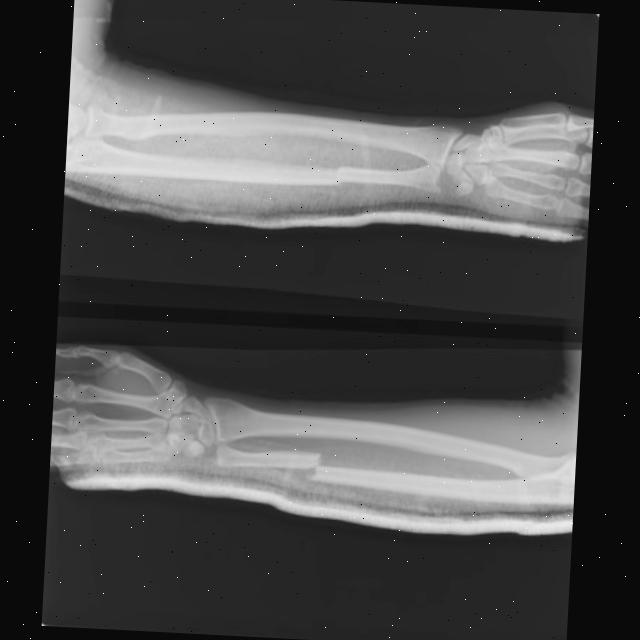fractured: (302, 452, 329, 485), (325, 162, 350, 186)
